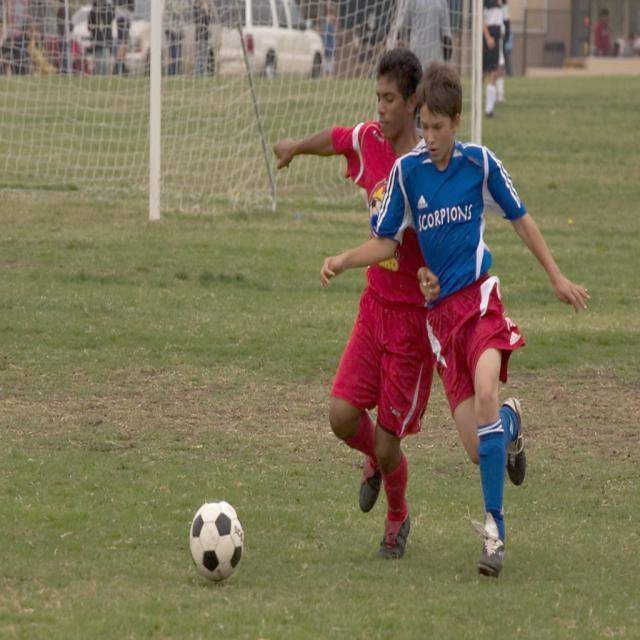ball: (190, 499, 245, 582)
